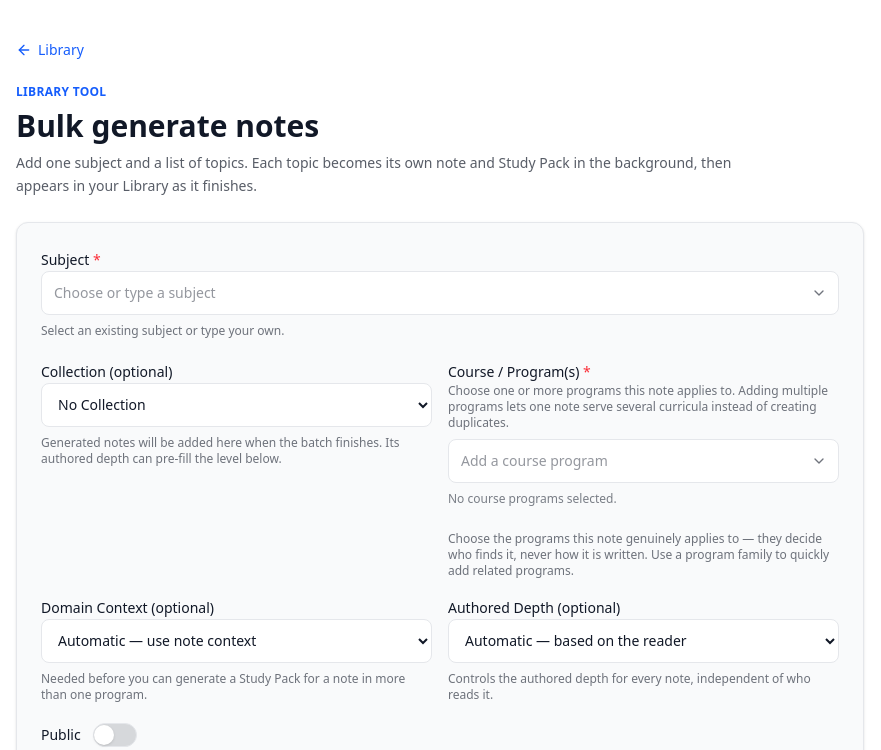
Scenario: BulkGenerationPageClient › prefills an empty authored depth from the selected Review Set
This screenshot has width=881, height=750.
Step 1. Select "Civil Engineering Mathematics" in the dropdown labelled "Collection (optional)" → [236, 404], box top-left (41, 382), bottom-right (432, 426)
(page scrolled)
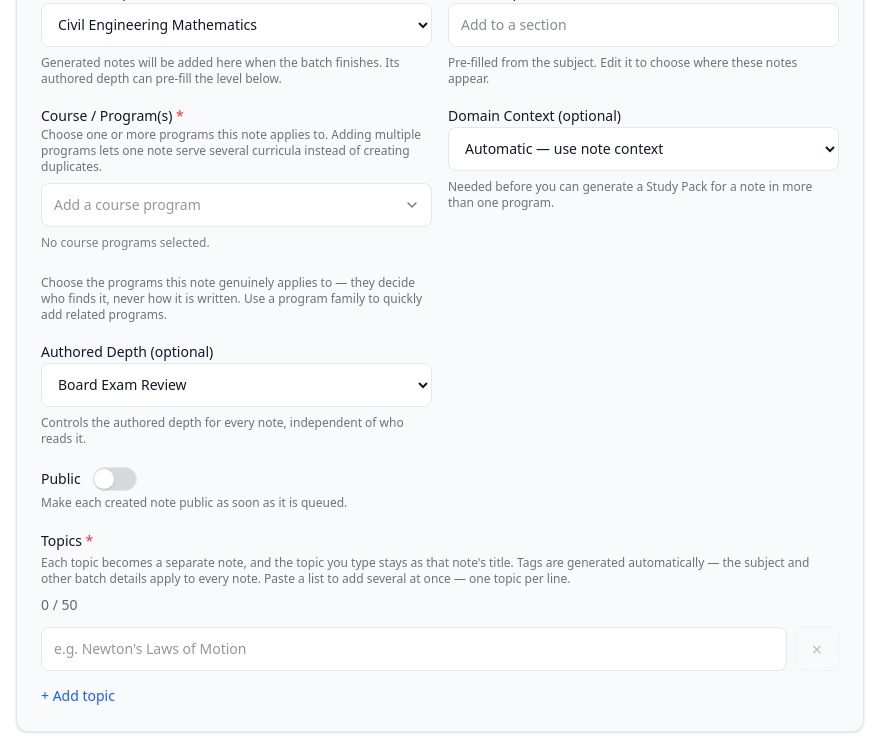
Result: the dropdown labelled "Authored Depth (optional)" shows "Board Exam Review" at top-left (41, 362), bottom-right (432, 406)
